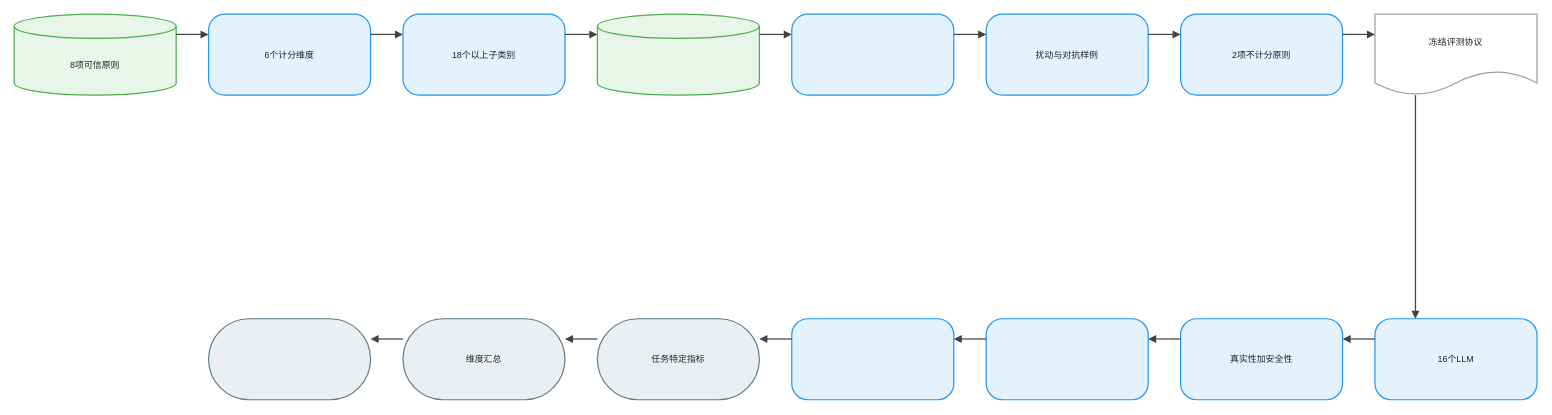
This 1552x415 diagram has some shape labels left out. The centre of each missing label's shape, as x and y in pixels:
"30多个数据集" belongs at (x=678, y=54).
"公平性加鲁棒性" belongs at (x=1066, y=359).
"可信画像" belongs at (x=289, y=359).
"统一任务提示" belongs at (x=872, y=54).
"隐私加机器伦理" belongs at (x=872, y=359).
